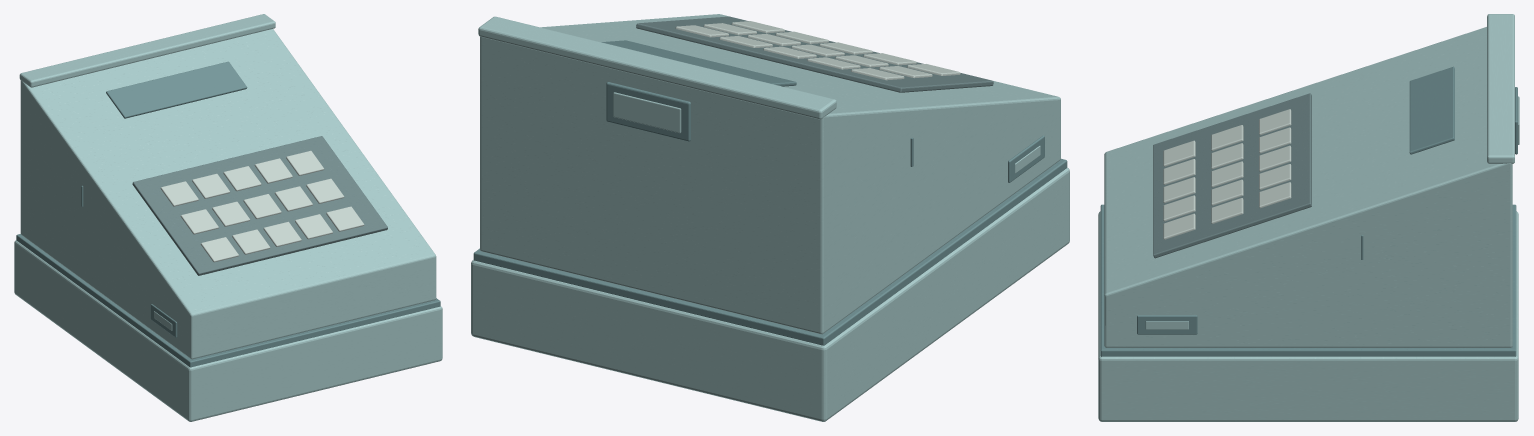
File: Register_FUR05.fbx
The picture shows the model from 3 angles, left to right: view 1: azimuth 30°, elevation 25°; view 2: azimuth 150°, elevation 25°; view 3: azimuth 270°, elevation 25°; orthographic projection. The views are drawn at different scales.
Parts seen in each view (by area): view 1: Register; view 2: Register; view 3: Register.
Boxes of the visible parts, <box> form: Register: <box>14,14,442,421</box>; Register: <box>471,14,1069,421</box>; Register: <box>1098,14,1519,421</box>.
Bounding box in the file's own units: 0.3 × 0.25 × 0.3608.
Materials: 4 (4 with a texture image).
